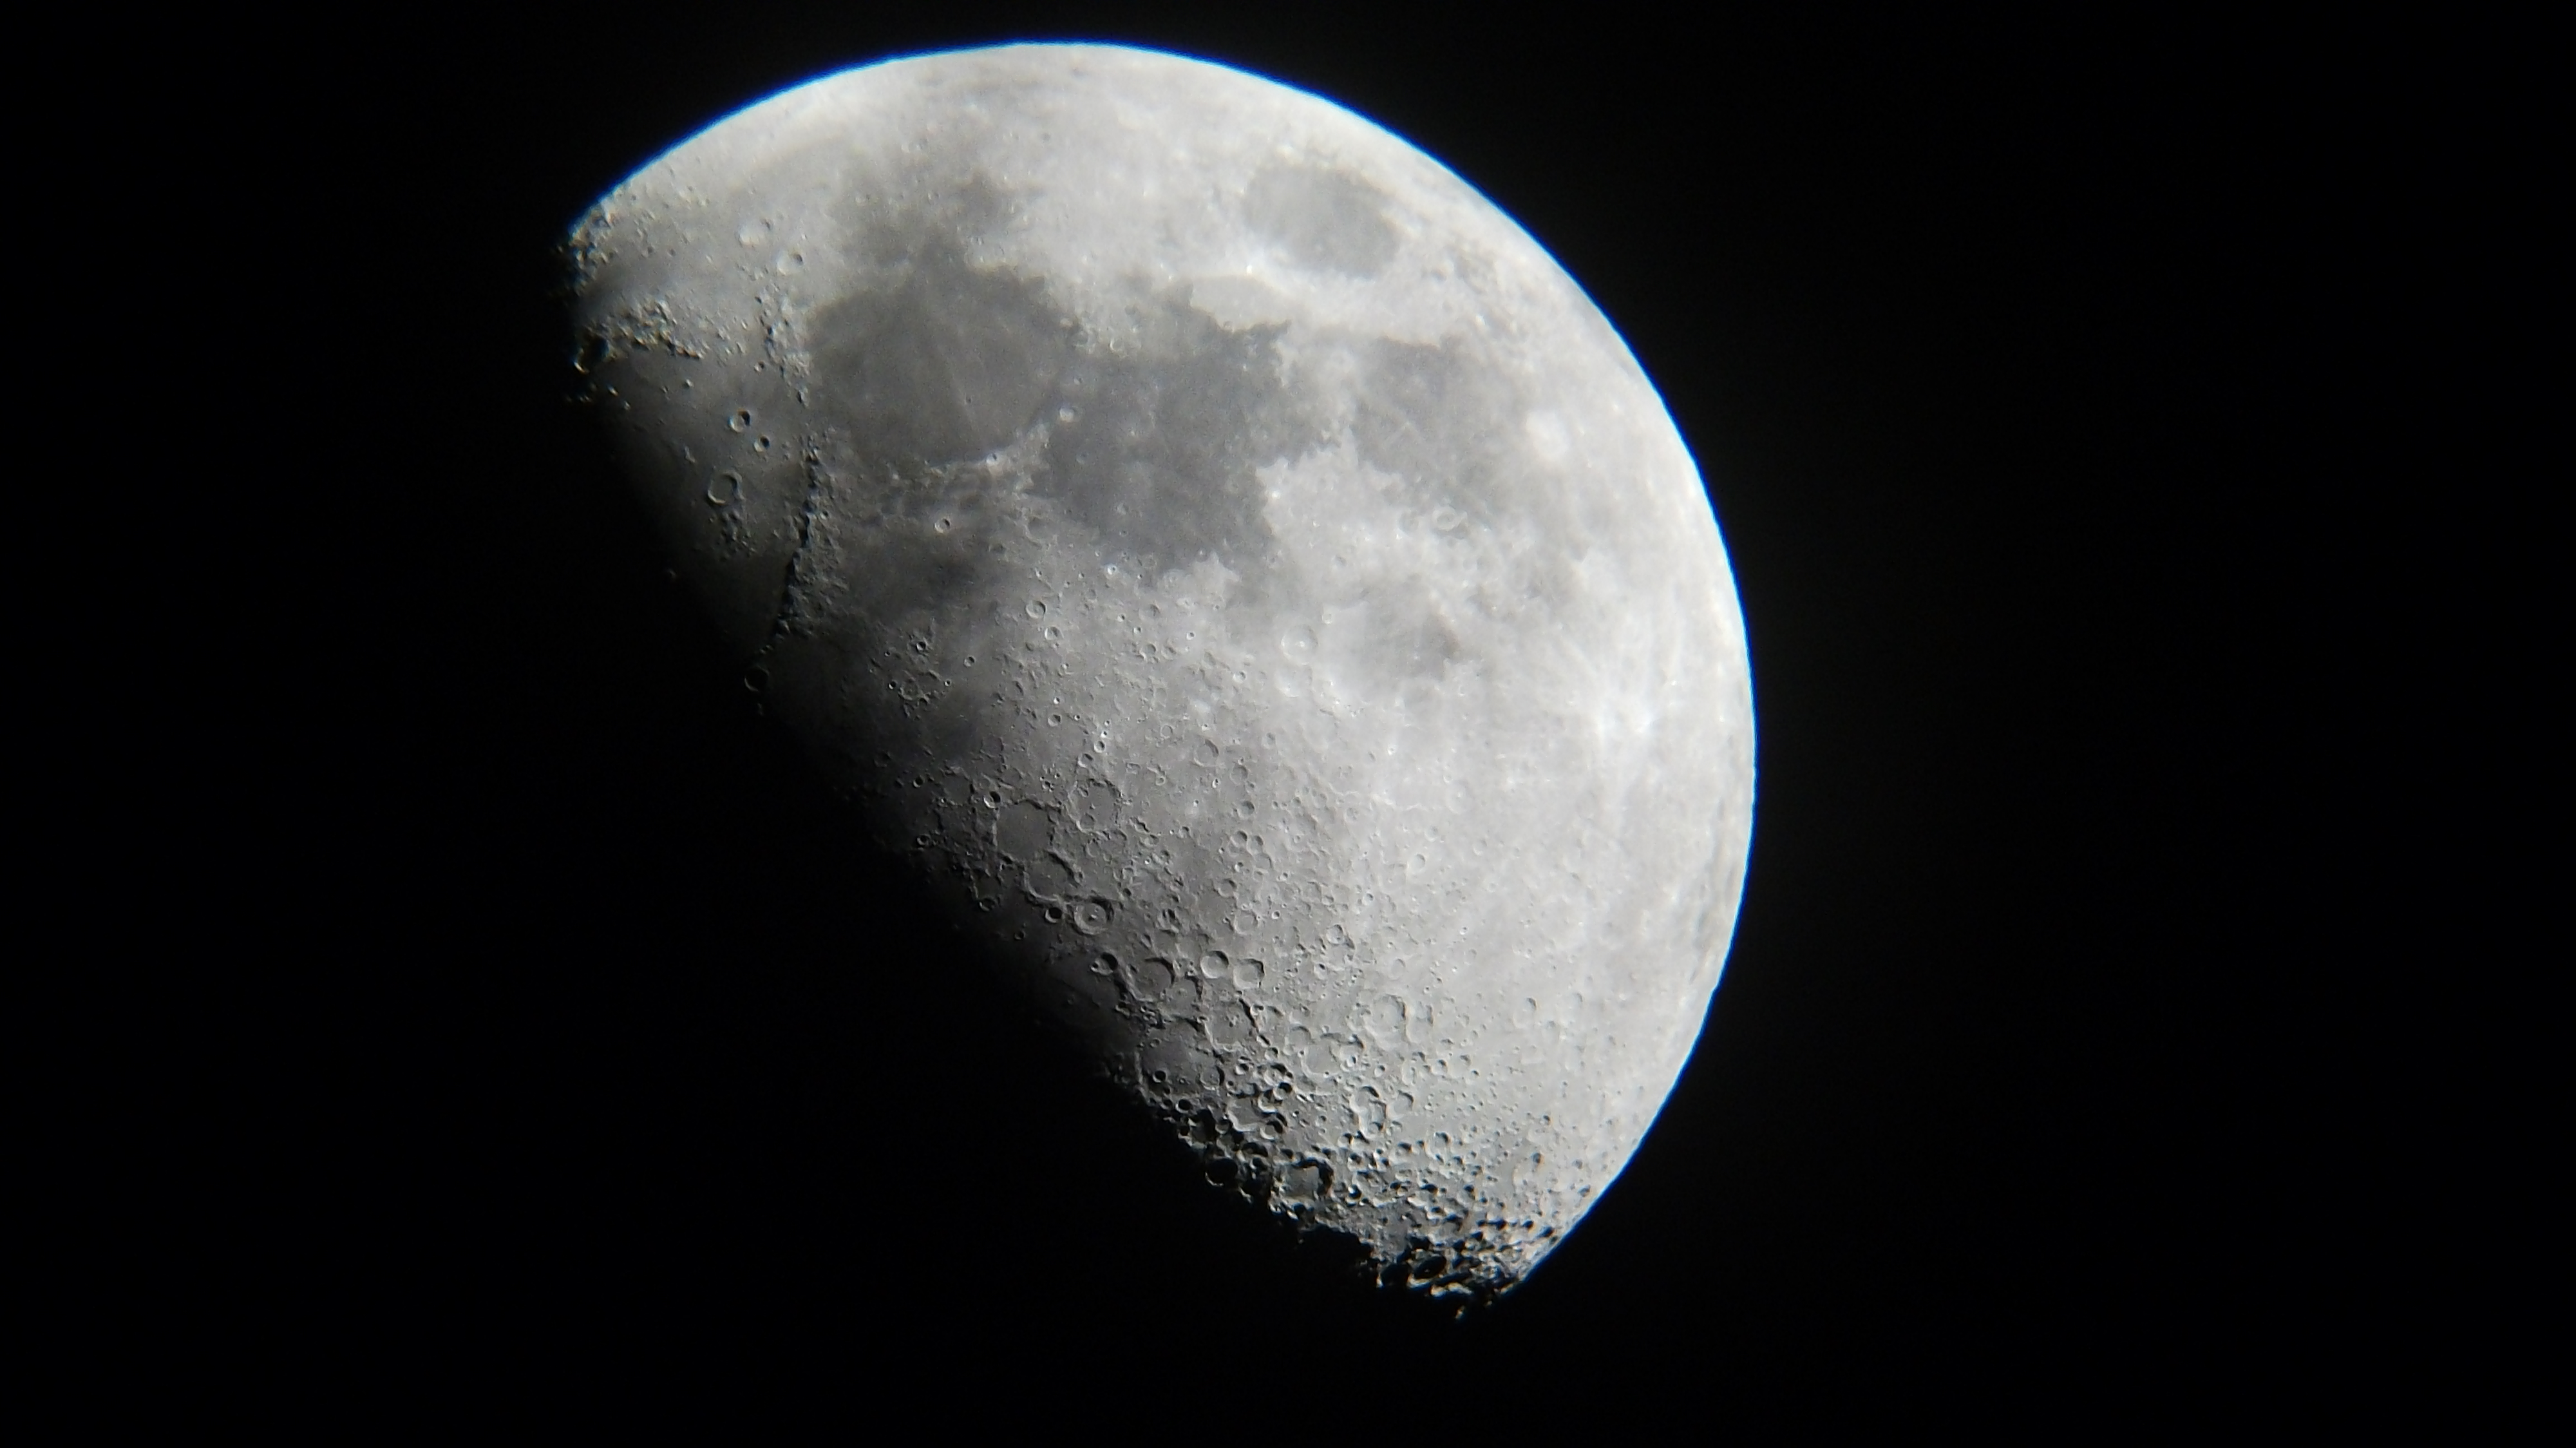crater: (1261, 1138, 1345, 1227), (694, 455, 763, 522), (1269, 612, 1336, 676), (715, 202, 786, 257), (1353, 981, 1414, 1043), (764, 237, 817, 294), (1062, 890, 1120, 942), (570, 333, 625, 374), (918, 506, 971, 543), (1047, 397, 1093, 435), (717, 402, 761, 439), (1017, 593, 1058, 632), (893, 131, 941, 161), (1177, 621, 1205, 650)
